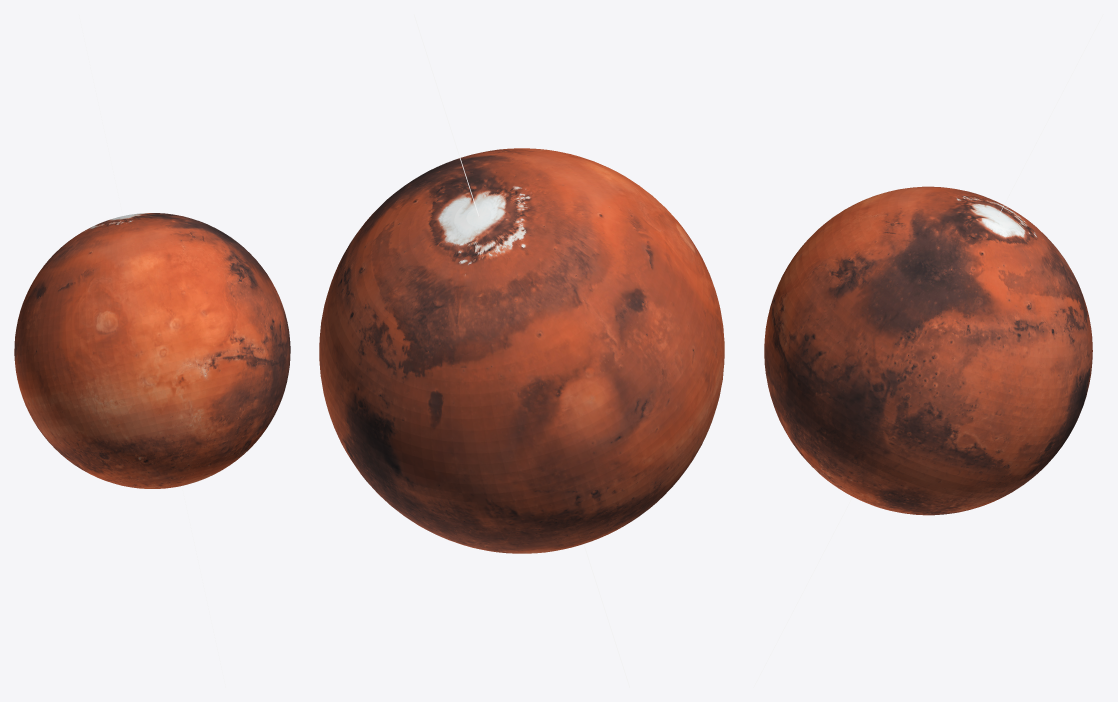
Rendered from mars.glb.
3 renders of one model, left to right at view 1: azimuth 30°, elevation 25°; view 2: azimuth 150°, elevation 25°; view 3: azimuth 270°, elevation 25°, orthographic. The views are drawn at different scales.
Parts seen in each view (by area): view 1: Sphere, Axis_Rod; view 2: Sphere; view 3: Sphere.
Part boxes in pixels (x1=…): Sphere: x1=14, y1=213, x2=290, y2=488; Axis_Rod: x1=79, y1=14, x2=226, y2=687; Sphere: x1=319, y1=148, x2=724, y2=553; Sphere: x1=764, y1=186, x2=1092, y2=515.
Bounding box in the file's own units: 2 × 4.53 × 2.13.
2 materials, 1 textured.
